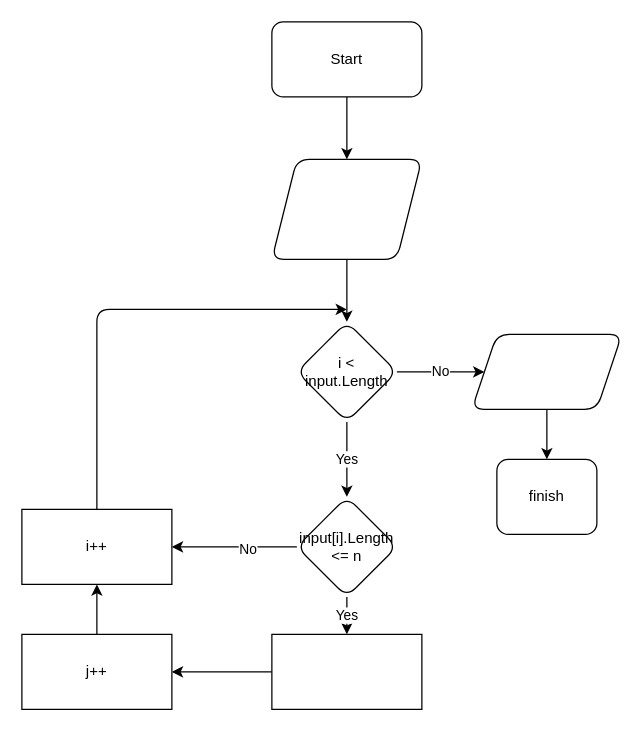
This 644x731 diagram has some shape labels left out. The shapes that lost their labels are listed below. From the top down, each one's box as (x1, y1, x2, y2) in pixels, then its label:
(271, 158, 422, 259): istring[] input, string[] output, int i = 0, int j = 0, int n = 3
(471, 333, 622, 409): output
(271, 633, 422, 709): output[j] = input[i]
